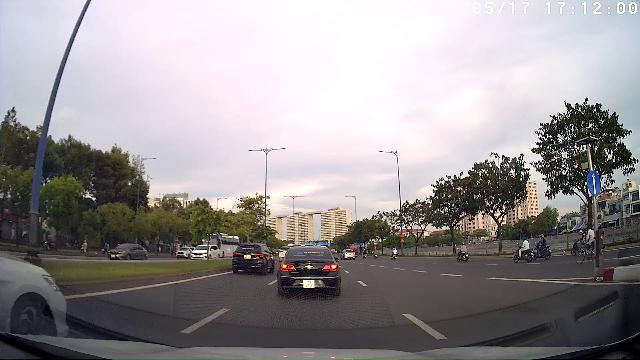301a-cac-xe-chi-duoc-di-thang: (586, 170, 602, 196)
